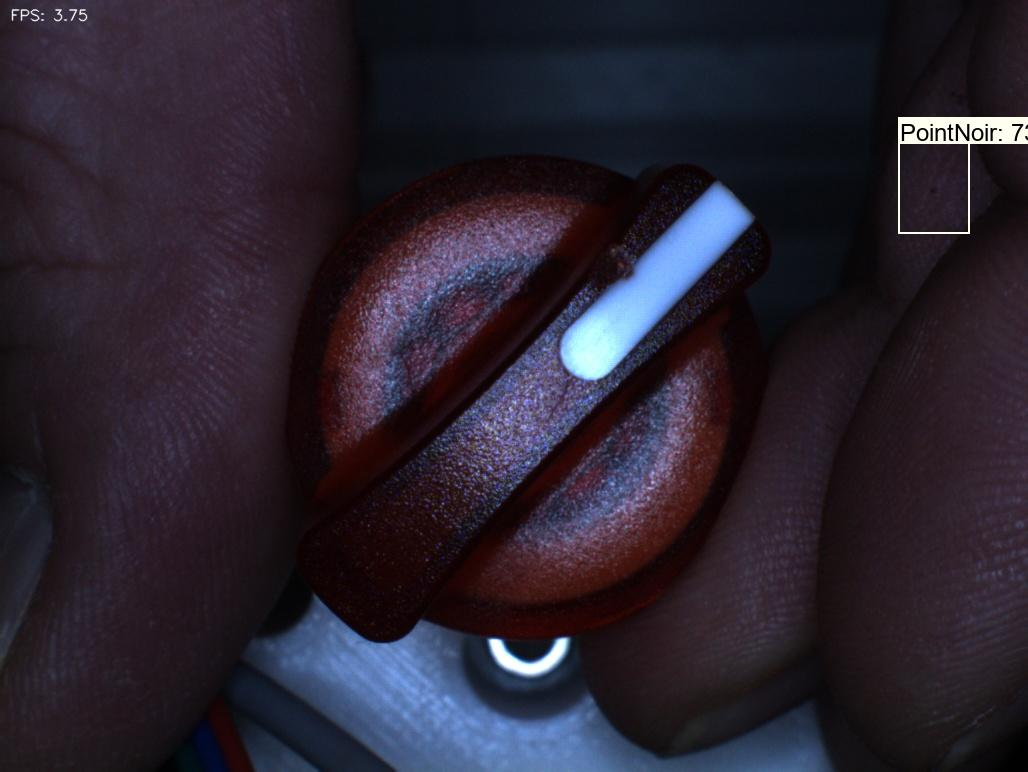Choc: (573, 211, 665, 305)
